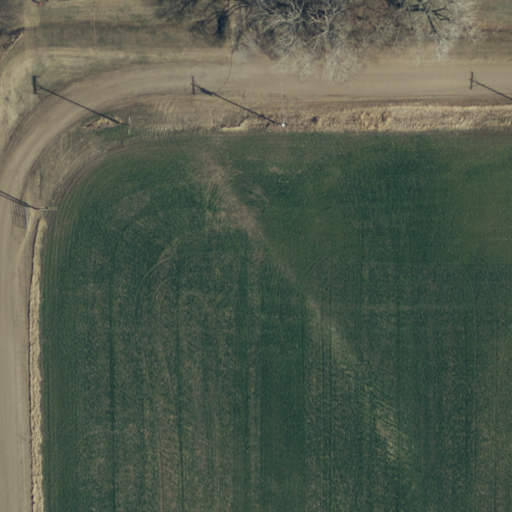DT: (265, 111, 299, 136), (28, 198, 61, 223), (112, 112, 137, 139)
